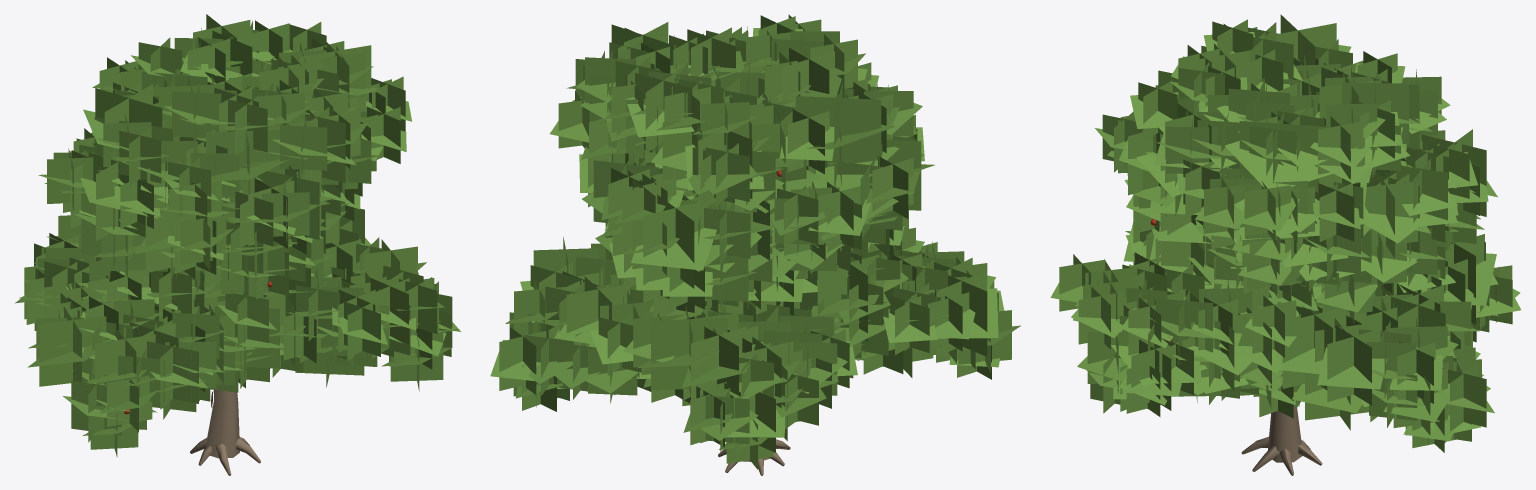
The model's file is pommier_2_f3_jeu.glb.
3 renders of one model, left to right at view 1: azimuth 30°, elevation 25°; view 2: azimuth 150°, elevation 25°; view 3: azimuth 270°, elevation 25°, orthographic. The views are drawn at different scales.
Visible parts, largest first — view 1: Pommier_T2_f3_Leger; view 2: Pommier_T2_f3_Leger; view 3: Pommier_T2_f3_Leger.
Part boxes in pixels (x1,y1,x2,y2): Pommier_T2_f3_Leger: [15, 14, 460, 475]; Pommier_T2_f3_Leger: [490, 14, 1020, 475]; Pommier_T2_f3_Leger: [1050, 14, 1520, 475].
Size of the model in its own units: 5.78 by 5.49 by 5.75.
